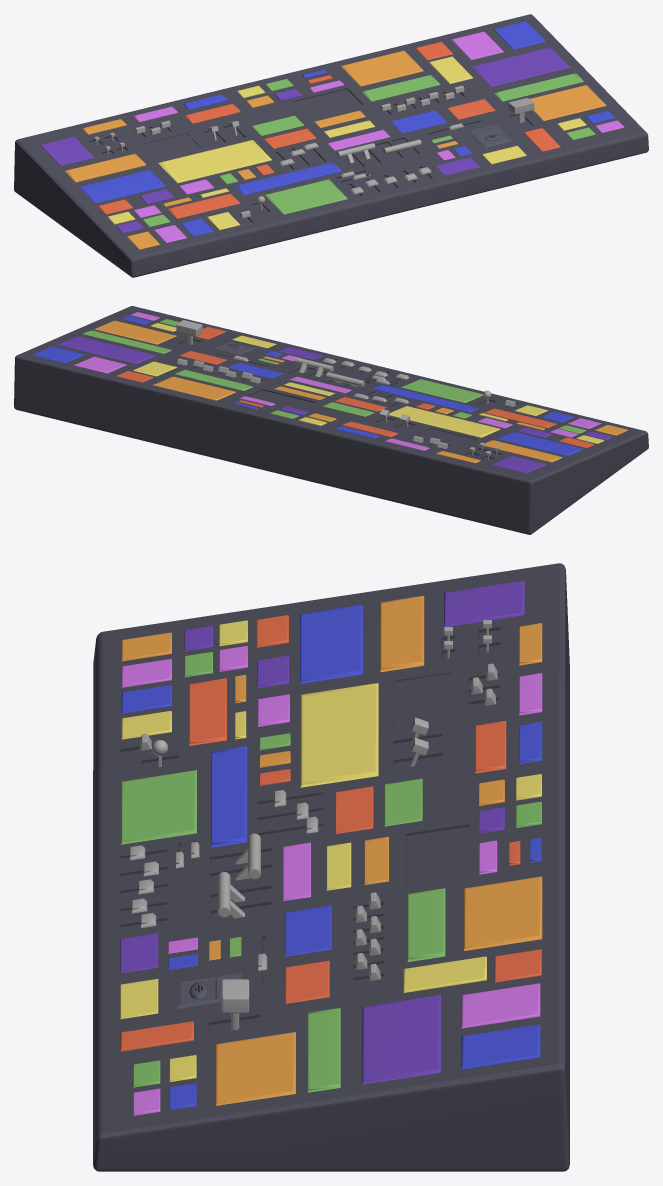
Rendered from Console.fbx.
The picture shows the model from 3 angles, top to bottom: view 1: azimuth 30°, elevation 25°; view 2: azimuth 150°, elevation 25°; view 3: azimuth 270°, elevation 25°; orthographic projection. The views are drawn at different scales.
Visible parts, largest first — view 1: Control_Pannel, pCube23, pCube50, pCube48, pCube21, pCube56, pCube22, pCube20, pCube35, pCube36, pCube55, pCube49 (+18 smaller); view 2: Control_Pannel, pCube23, pCube50, pCube48, pCube56, pCube21, pCube22, pCube20, pCube35, pCube55, pCube49, pCube36 (+8 smaller); view 3: Control_Pannel, pCube23, pCube50, pCube48, pCube56, pCube21, pCube22, pCube20, pCube35, pCube36, pCube55, pCube51 (+29 smaller).
Part boxes in pixels (box(x1,y1,x2,y2)): Control_Pannel: box(14, 14, 648, 277); pCube23: box(158, 140, 271, 183); pCube50: box(472, 47, 570, 86); pCube48: box(341, 50, 423, 86); pCube21: box(265, 179, 347, 214); pCube56: box(530, 85, 606, 120); pCube22: box(79, 170, 165, 203); pCube20: box(235, 162, 342, 195); pCube35: box(65, 153, 146, 182); pCube36: box(40, 136, 94, 166); pCube55: box(494, 73, 583, 101); pCube49: box(362, 75, 440, 101); Control_Pannel: box(14, 306, 648, 534); pCube23: box(389, 406, 500, 437); pCube50: box(57, 336, 155, 364); pCube48: box(153, 376, 235, 400); pCube56: box(94, 320, 176, 344); pCube21: box(401, 379, 483, 402); pCube22: box(497, 432, 583, 456); pCube20: box(372, 384, 478, 412); pCube35: box(485, 440, 562, 462); pCube55: box(82, 330, 171, 353); pCube49: box(175, 369, 252, 390); pCube36: box(492, 456, 546, 473); Control_Pannel: box(93, 563, 569, 1171); pCube23: box(300, 683, 378, 787); pCube50: box(362, 994, 440, 1084); pCube48: box(463, 876, 542, 950); pCube56: box(215, 1032, 295, 1105); pCube21: box(121, 770, 196, 844); pCube22: box(300, 604, 363, 683); pCube20: box(211, 746, 247, 847); pCube35: box(380, 595, 424, 672); pCube36: box(444, 580, 524, 626); pCube55: box(307, 1008, 340, 1092); pCube51: box(461, 983, 540, 1028).
Bounding box in the file's own units: 3.84 × 0.383 × 1.53.
